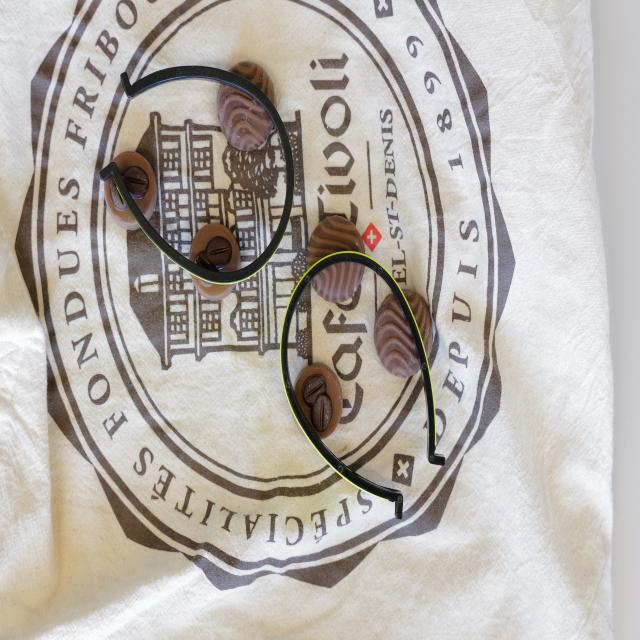Arabia: (292, 362, 345, 438), (108, 147, 156, 230), (192, 219, 241, 300)
Noir_authentique: (375, 285, 435, 375), (308, 213, 364, 302), (220, 59, 274, 150)
